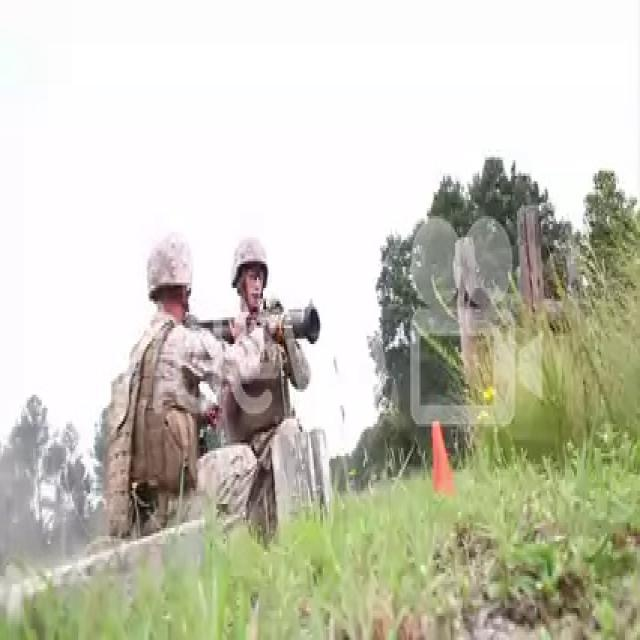bazooka: (205, 291, 325, 349)
